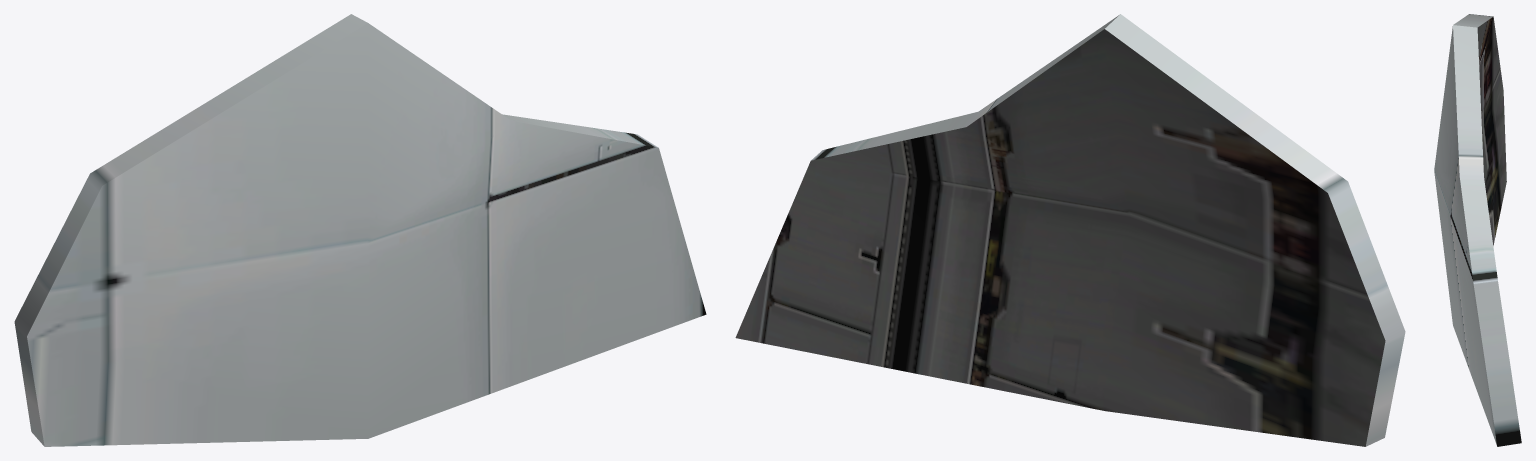
Rendered from stg200_obj_killer_brk_b.obj.
3 views of the same model, side by side, from view 1: azimuth 30°, elevation 25°; view 2: azimuth 150°, elevation 25°; view 3: azimuth 270°, elevation 25° (orthographic). The views are drawn at different scales.
Parts seen in each view (by area): view 1: polygon0; view 2: polygon1, polygon0; view 3: polygon0, polygon1.
Boxes of the visible parts, x1=… form: polygon0: x1=14, y1=14, x2=706, y2=446; polygon1: x1=735, y1=29, x2=1385, y2=446; polygon0: x1=811, y1=14, x2=1405, y2=446; polygon0: x1=1434, y1=14, x2=1521, y2=446; polygon1: x1=1477, y1=16, x2=1506, y2=245.
Size of the model in its own units: 46.62 by 26.77 by 7.08.
2 materials, 2 textured.
